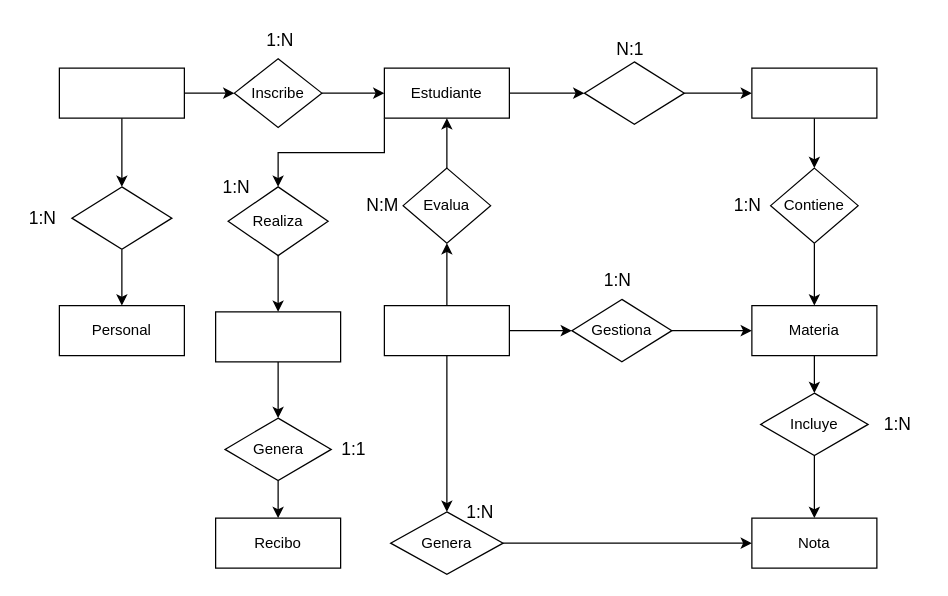
Image size: 948x596. Some labels were removed from this diagram. Here are the shapes that lost their labels. From the top down, the centre of each, then its label:
At pixel 121 92: "Administrador".
At pixel 633 92: "Pertenece".
At pixel 814 92: "Curso".
At pixel 121 217: "Verifica".
At pixel 277 336: "Pago".
At pixel 446 330: "Docente".
